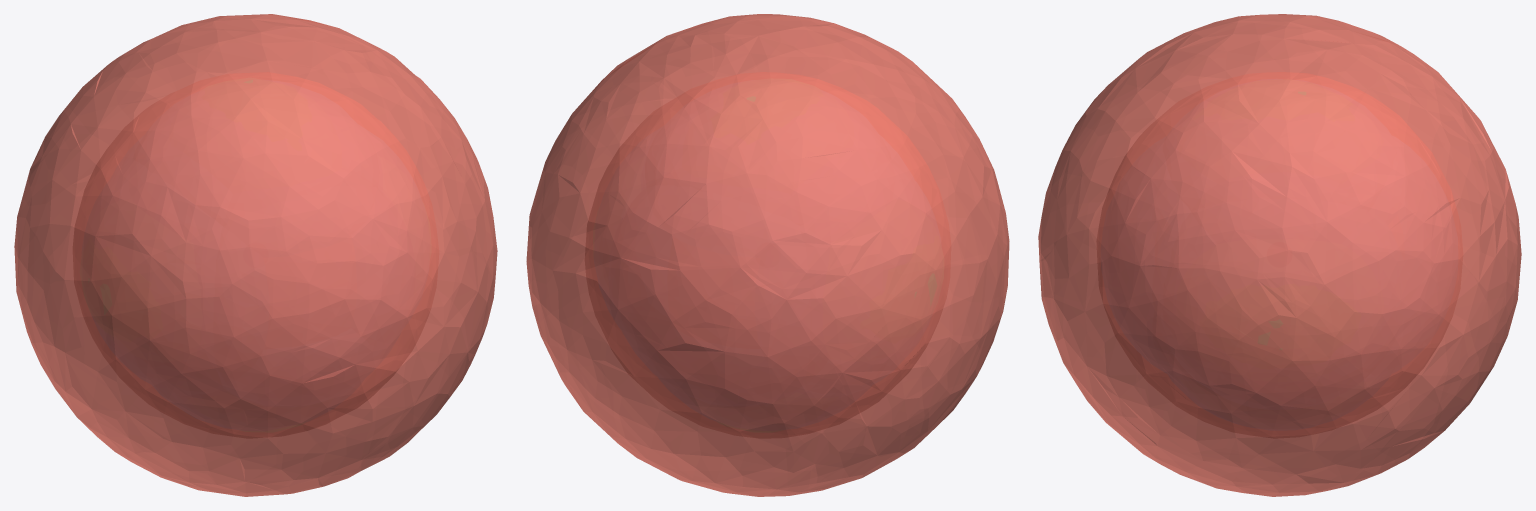
Rendered from orbital.glb.
The picture shows the model from 3 angles, left to right: view 1: azimuth 30°, elevation 25°; view 2: azimuth 150°, elevation 25°; view 3: azimuth 270°, elevation 25°; orthographic projection.
Visible parts, largest first — view 1: Sc_n4_s_ml0_node, Sc_n3_s_ml0_node; view 2: Sc_n4_s_ml0_node, Sc_n3_s_ml0_node; view 3: Sc_n4_s_ml0_node, Sc_n3_s_ml0_node.
Boxes of the visible parts, x1,y1,x2,y2 form: Sc_n4_s_ml0_node: [14, 14, 497, 496]; Sc_n3_s_ml0_node: [73, 72, 438, 438]; Sc_n4_s_ml0_node: [526, 14, 1009, 496]; Sc_n3_s_ml0_node: [585, 72, 950, 438]; Sc_n4_s_ml0_node: [1038, 14, 1521, 496]; Sc_n3_s_ml0_node: [1096, 72, 1462, 438].
Size of the model in its own units: 2.06 by 2.07 by 2.06.
